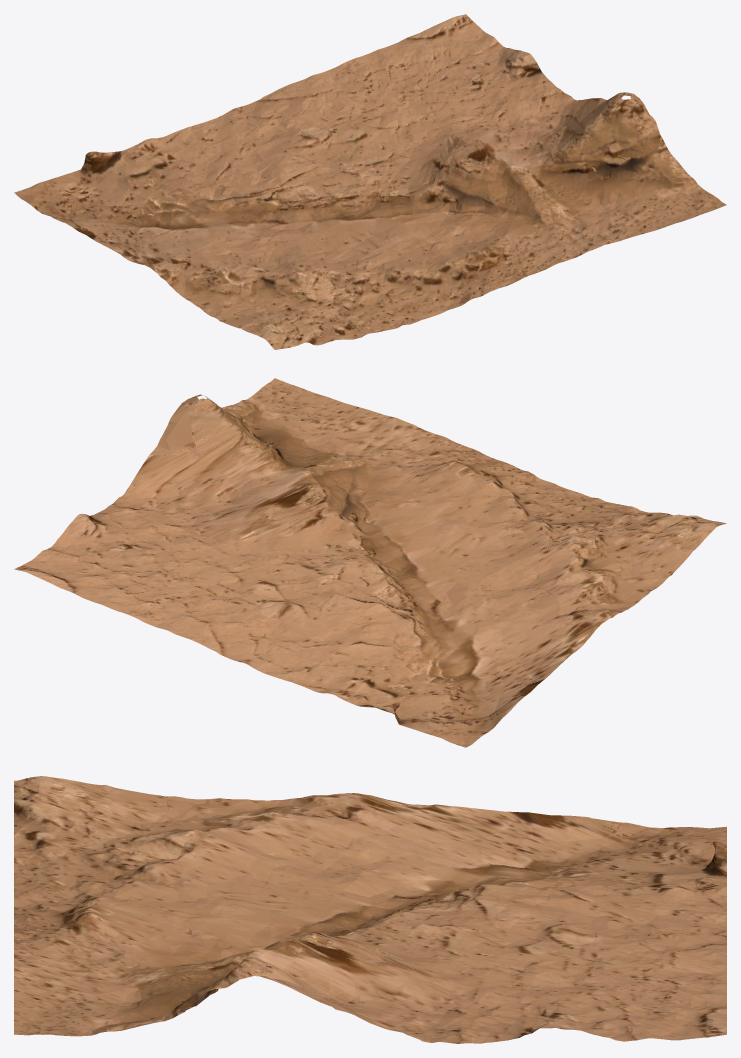
3 views of the same model, one above another, from view 1: azimuth 30°, elevation 25°; view 2: azimuth 150°, elevation 25°; view 3: azimuth 270°, elevation 25° (orthographic). The views are drawn at different scales.
Bounding box in the file's own units: 1.04 × 0.2625 × 1.04.
2 materials, 2 textured.
